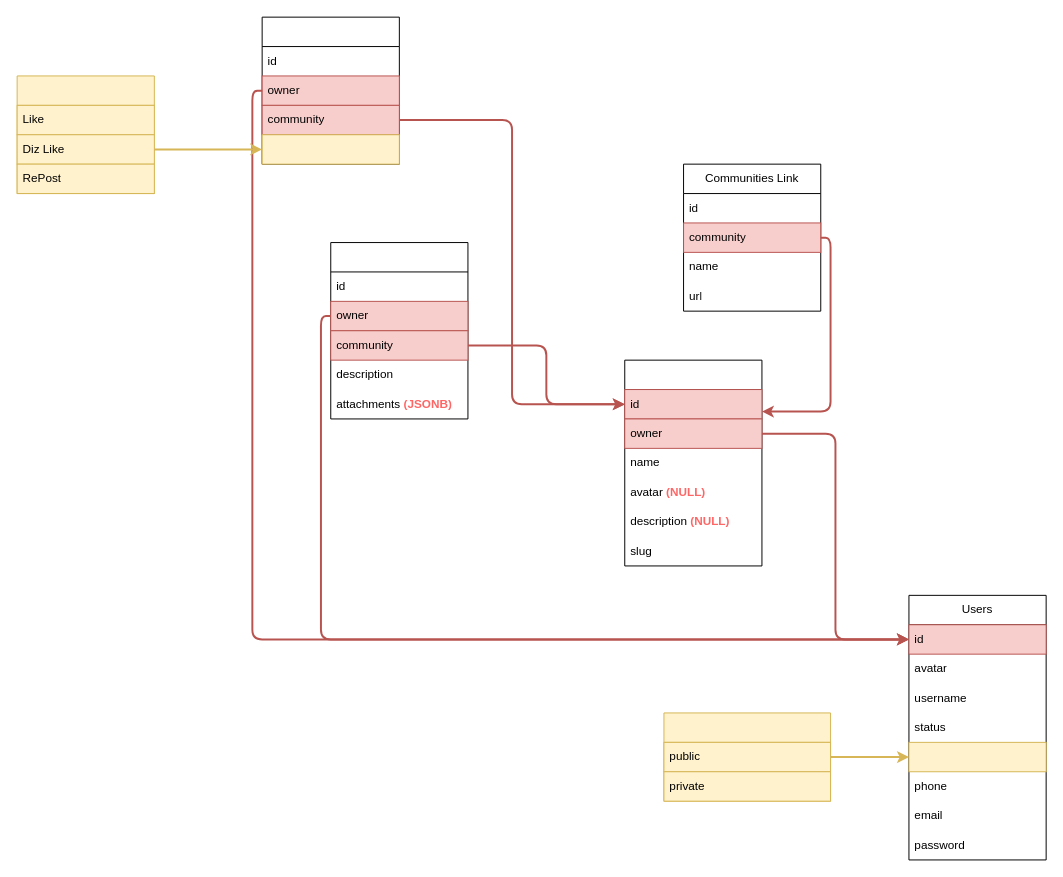
Some shapes in this 1063 by 877 pixel diagram are drawn without their labels. The box of each missing label's shape, as (x1, y1, x2, y2) in pixels:
ACCOUNT VISIBLE ENUM: (663, 712, 831, 801)
account_visible: (908, 741, 1046, 772)
Communities: (624, 359, 762, 566)
Communities Events: (261, 16, 399, 164)
Communities Post: (330, 242, 468, 419)
event (ENUM): (261, 134, 399, 164)
Events Enum: (16, 75, 154, 194)
